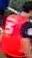red: (0, 1, 32, 58)
